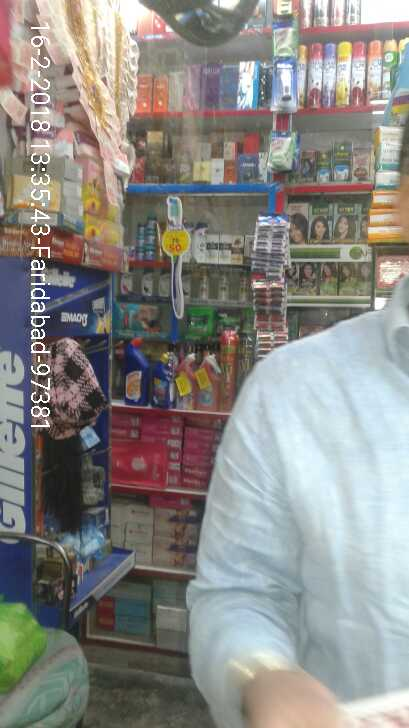gillete: (272, 57, 296, 111)
